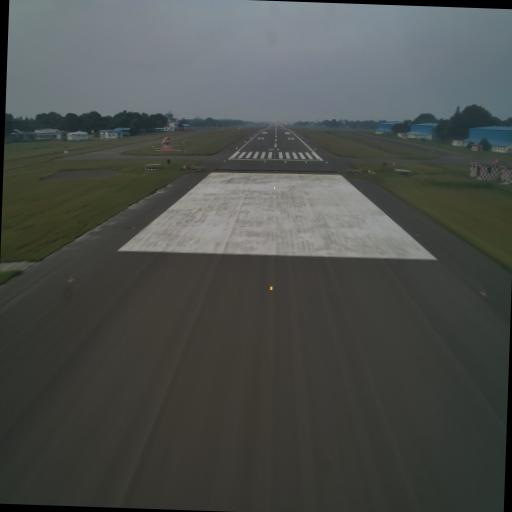off: (66, 272, 76, 286), (478, 288, 488, 300)
on: (268, 280, 274, 293), (271, 182, 276, 192)
